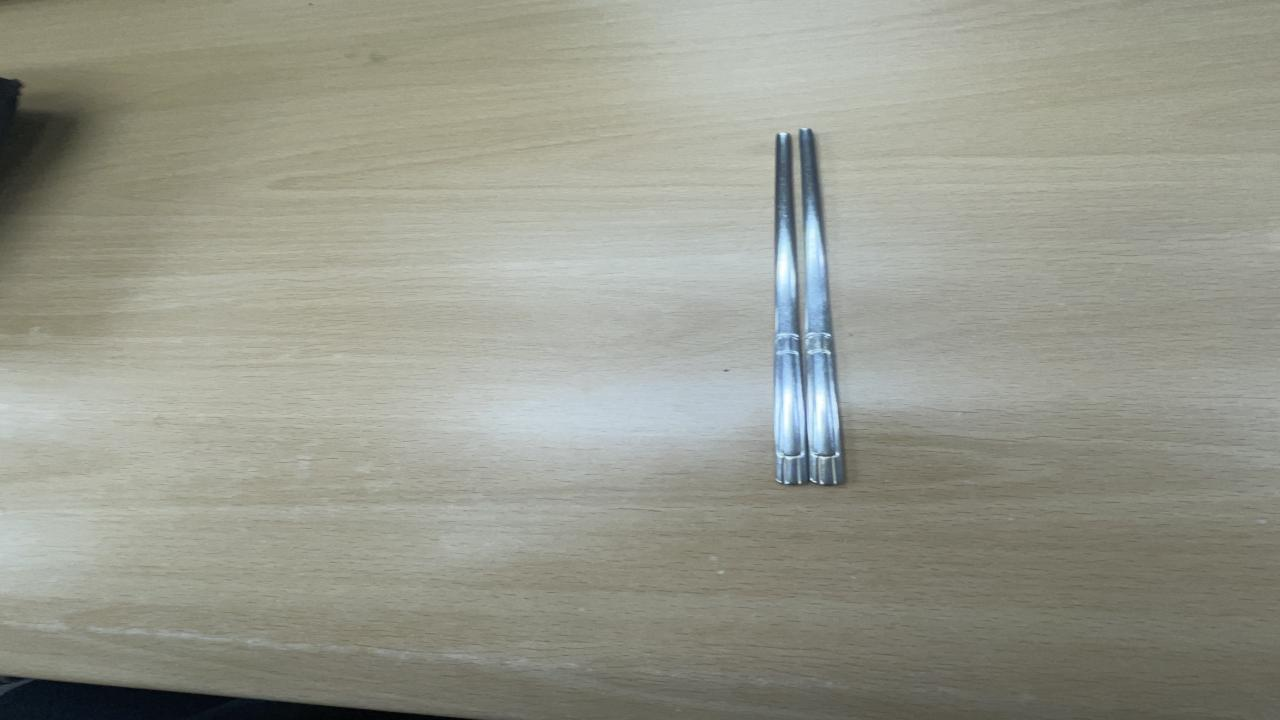chopstick: (775, 130, 841, 485)
